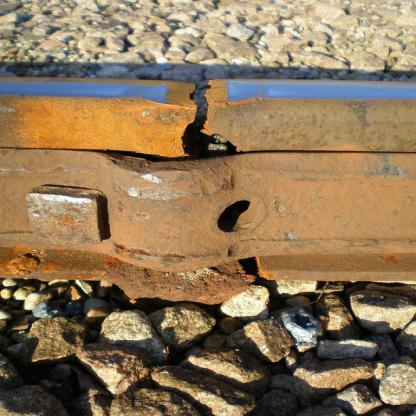Defective 2: (125, 66, 285, 190)
